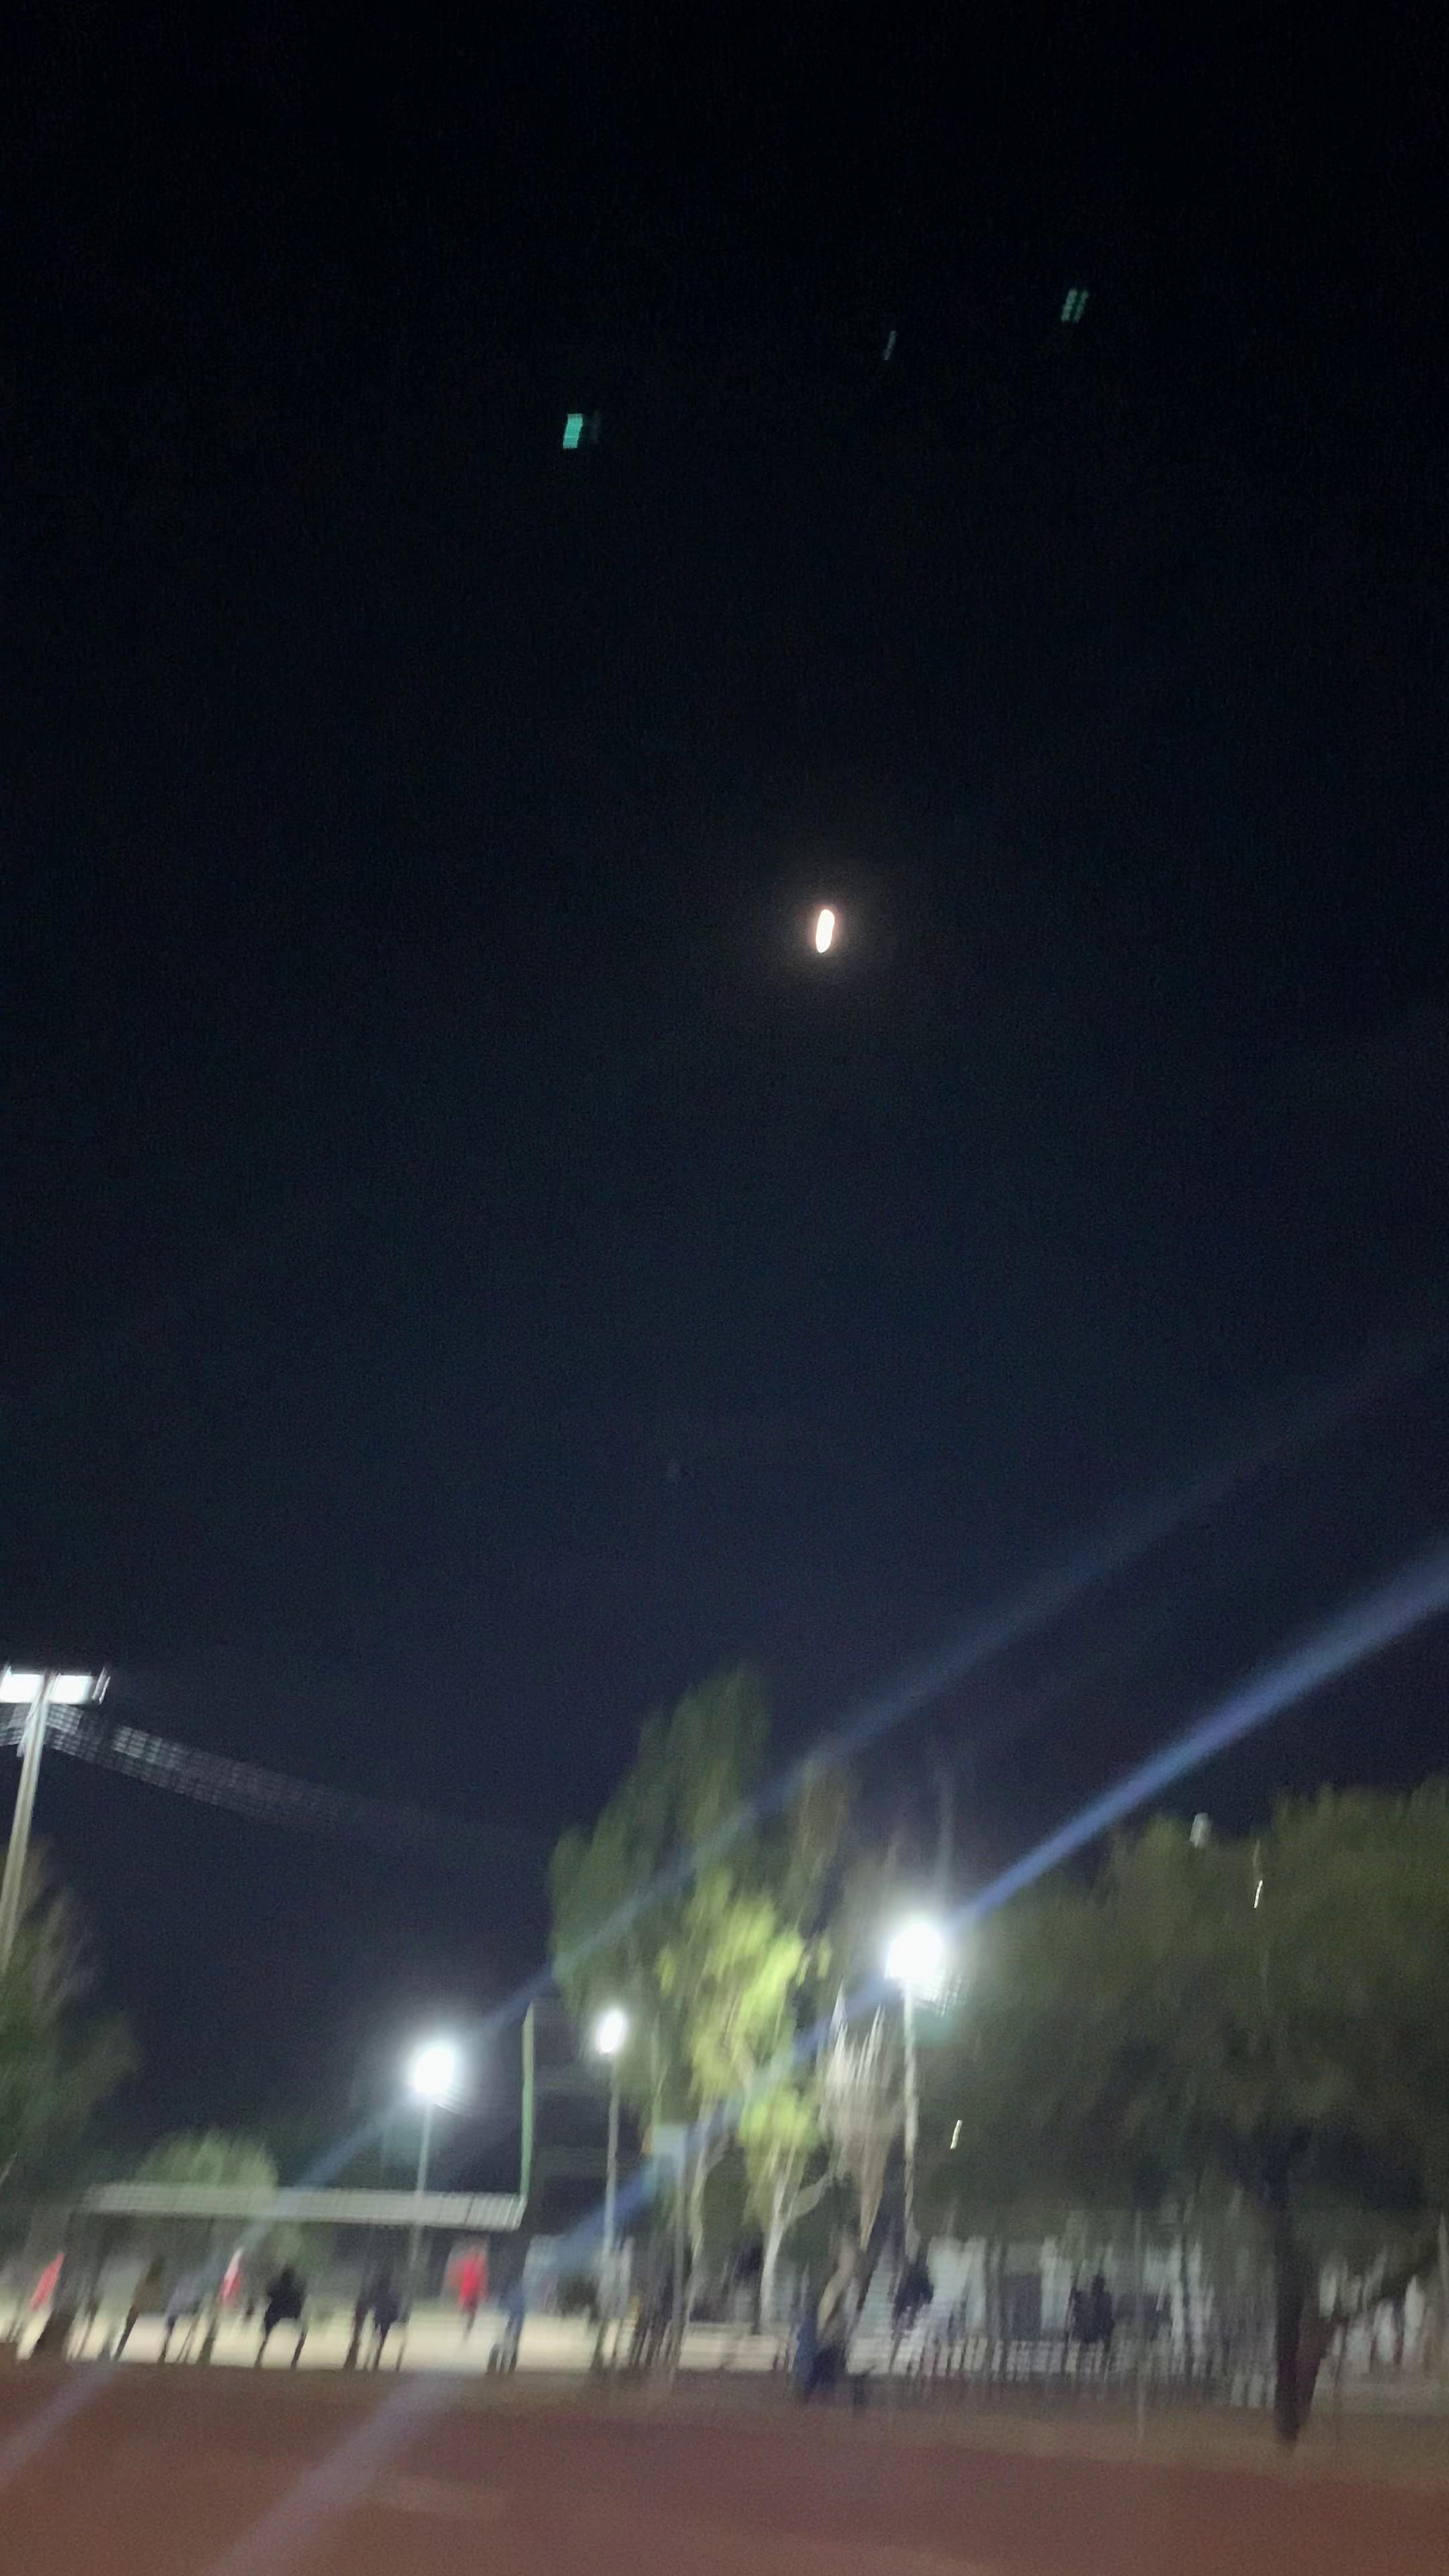moon: (775, 885, 876, 1001)
